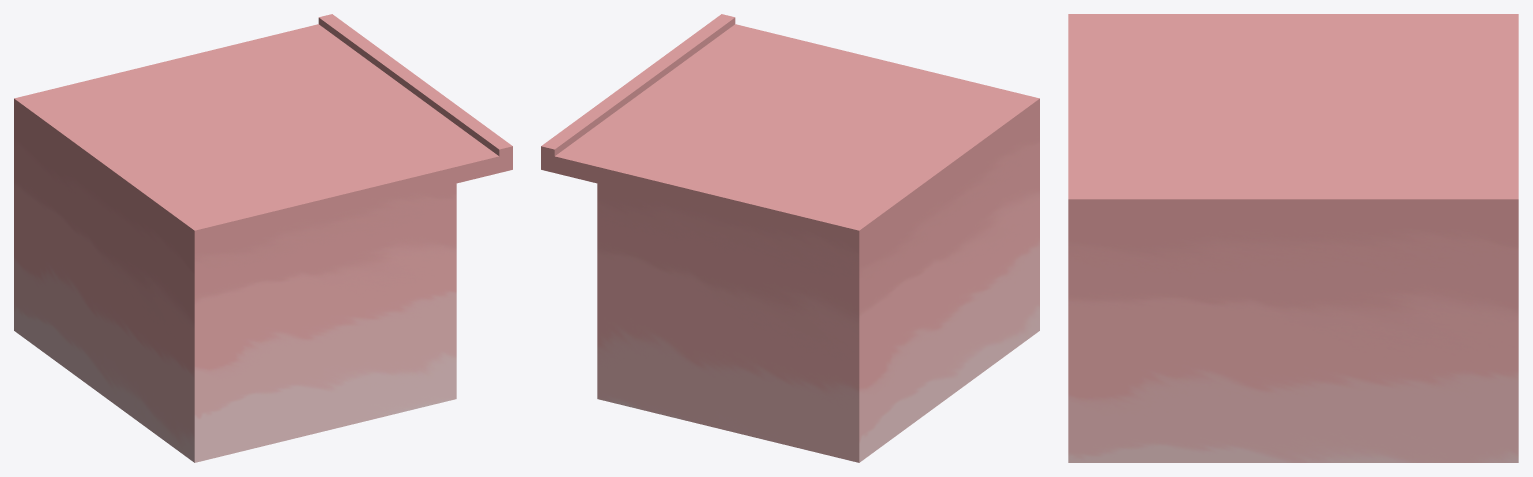
The model's file is minibat.fbx.
The picture shows the model from 3 angles, left to right: view 1: azimuth 30°, elevation 25°; view 2: azimuth 150°, elevation 25°; view 3: azimuth 270°, elevation 25°; orthographic projection. The views are drawn at different scales.
Parts seen in each view (by area): view 1: mini_bâtiment; view 2: mini_bâtiment; view 3: mini_bâtiment.
Boxes of the visible parts, bbox=[...] form: mini_bâtiment: bbox=[14, 14, 512, 462]; mini_bâtiment: bbox=[541, 14, 1039, 462]; mini_bâtiment: bbox=[1068, 14, 1518, 462].
Bounding box in the file's own units: 319 × 229 × 313.
